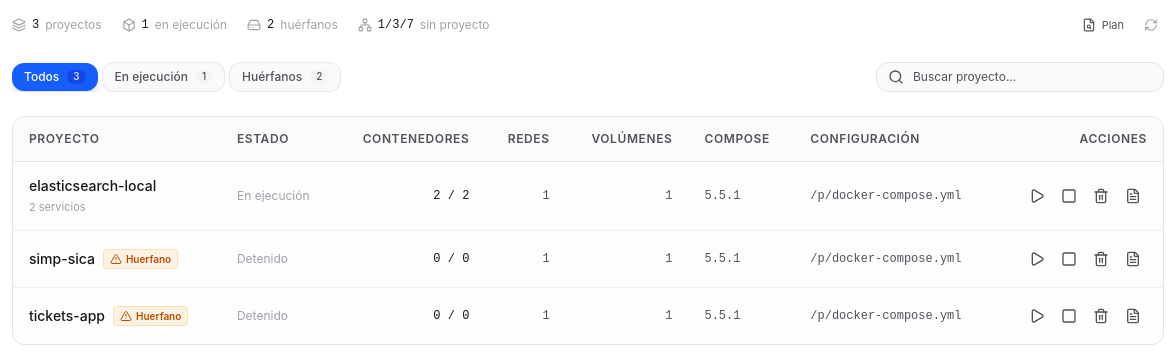
Test: ProjectsView › busca por nombre
This screenshot has width=1176, height=362.
Type "tickets" into the field with placeholder "Buscar proyecto..." at (1020, 77), box [876,62,1164,92]
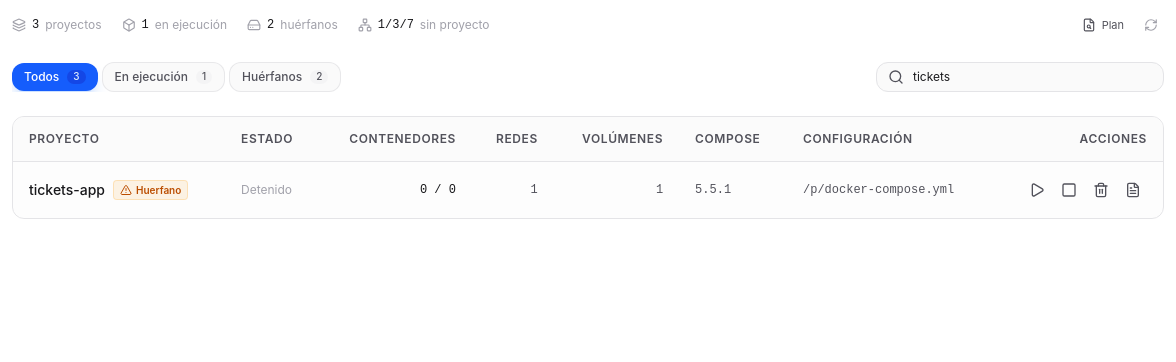
Expected: the text "tickets-app" is shown, [29,180,105,200]
Expected: the text "simp-sica" is gone
